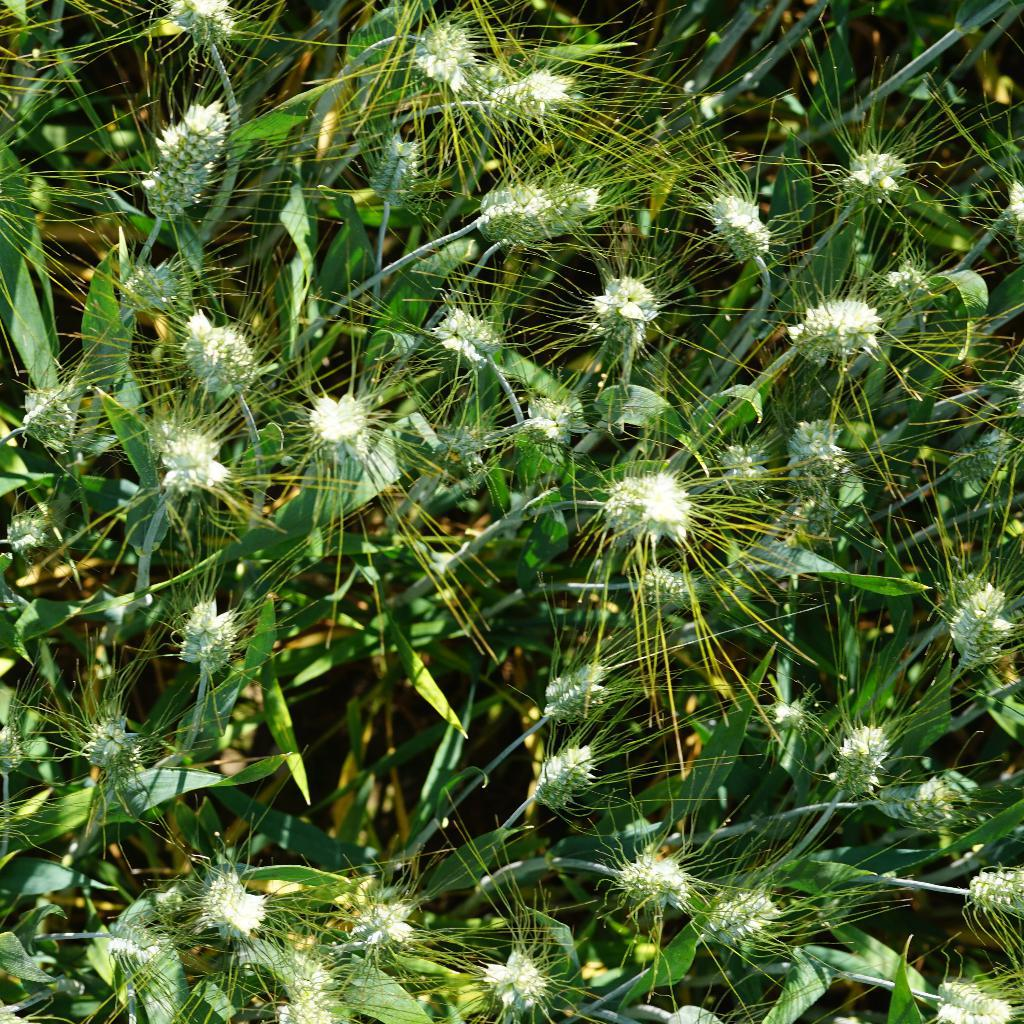0-0: (150, 93, 236, 237), (587, 471, 708, 556), (165, 309, 267, 406), (300, 371, 387, 480), (776, 289, 892, 365), (941, 579, 1021, 684), (496, 176, 613, 247), (580, 268, 668, 353), (536, 647, 627, 726), (419, 303, 510, 377), (479, 58, 580, 124), (861, 774, 976, 829), (186, 869, 272, 942), (354, 120, 422, 212), (65, 707, 149, 781), (819, 724, 893, 806), (597, 854, 699, 913), (777, 419, 856, 495), (520, 740, 606, 808), (145, 427, 234, 492), (690, 888, 791, 945), (463, 178, 569, 231), (836, 145, 914, 215), (930, 425, 1018, 486), (176, 598, 243, 677), (708, 188, 768, 271), (159, 0, 238, 63), (334, 896, 419, 954), (401, 24, 479, 86), (777, 489, 851, 553), (920, 974, 1014, 1024), (114, 257, 195, 315), (627, 564, 731, 609), (14, 387, 81, 455), (474, 950, 547, 1012), (513, 393, 585, 450), (706, 438, 769, 500), (94, 916, 168, 968), (954, 863, 1024, 917), (286, 959, 346, 1019), (871, 267, 943, 313), (427, 424, 487, 479), (0, 506, 59, 553), (270, 988, 345, 1024), (761, 694, 808, 733), (0, 719, 25, 779)
